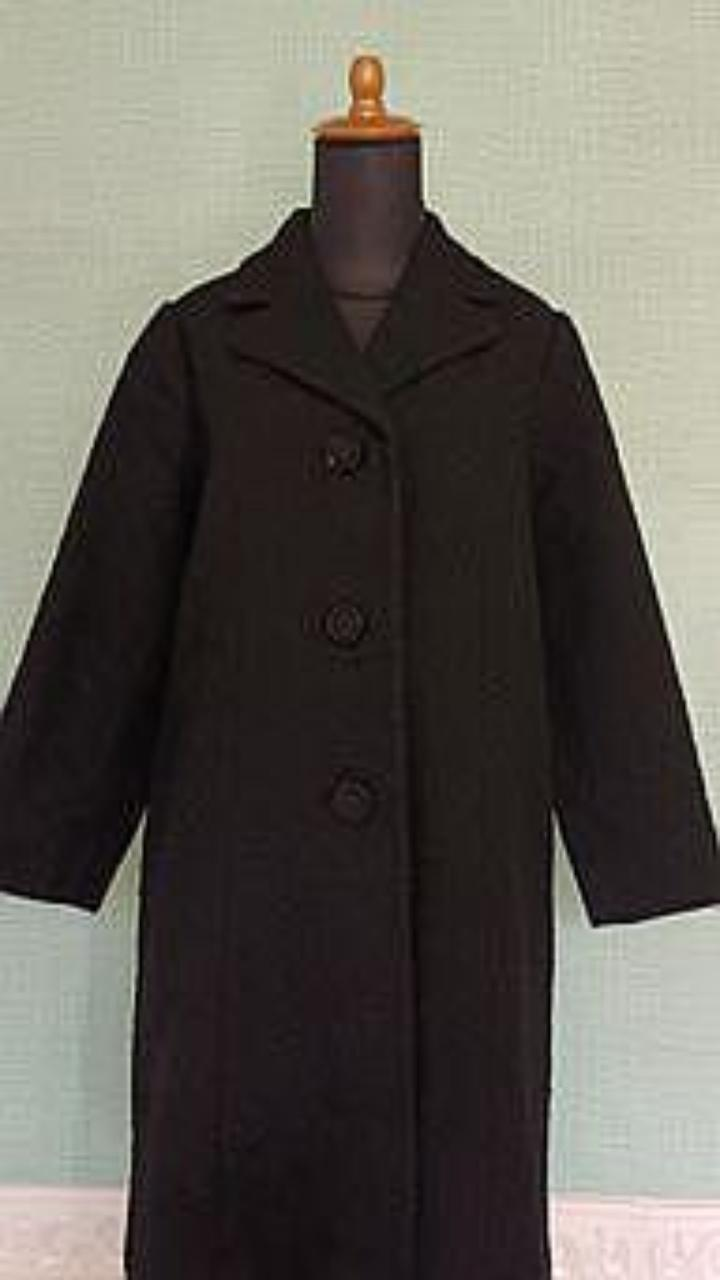Coat: (0, 206, 719, 1279)
